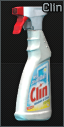Clin window cleaner: (0, 0, 64, 127)
